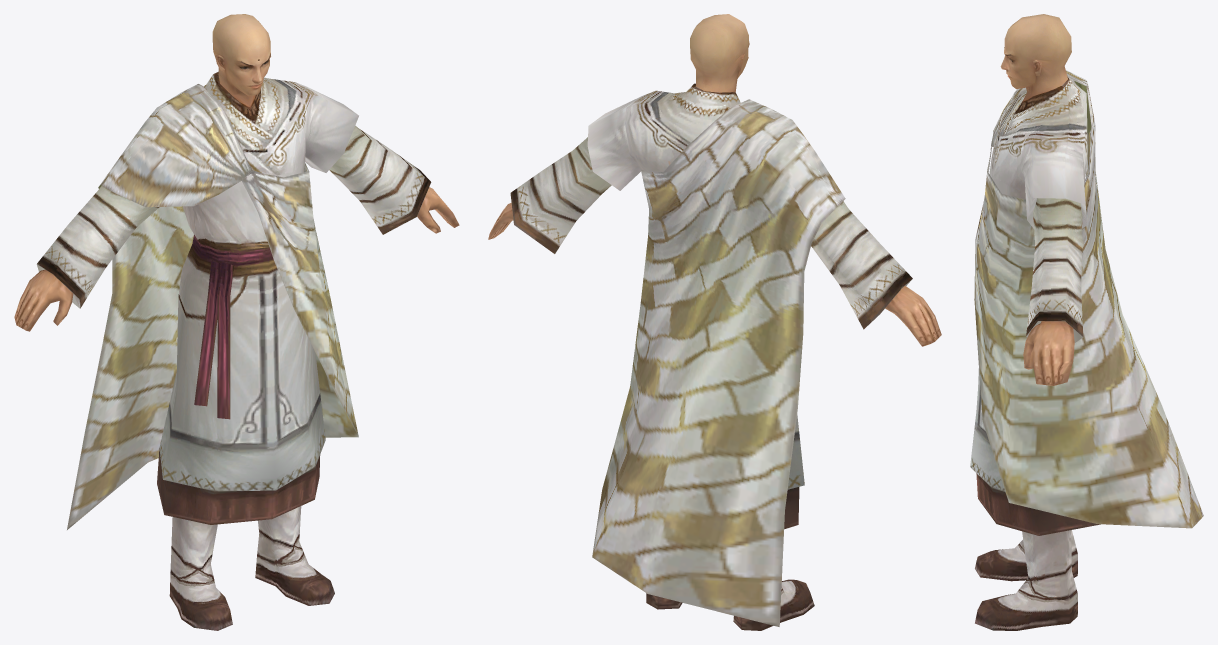
Rendered from monk-v2.glb.
The picture shows the model from 3 angles, left to right: view 1: azimuth 30°, elevation 25°; view 2: azimuth 150°, elevation 25°; view 3: azimuth 270°, elevation 25°; orthographic projection. The views are drawn at different scales.
Parts seen in each view (by area): view 1: ElementClient-1be729c0.obj_0, Object_6; view 2: Object_6, ElementClient-1be729c0.obj_0; view 3: Object_6, ElementClient-1be729c0.obj_0.
Part boxes in pixels (box(x1,y1,x2,y2)): ElementClient-1be729c0.obj_0: box(14, 14, 459, 630); Object_6: box(67, 84, 358, 529); Object_6: box(592, 99, 845, 626); ElementClient-1be729c0.obj_0: box(488, 14, 941, 630); Object_6: box(974, 70, 1203, 528); ElementClient-1be729c0.obj_0: box(970, 14, 1100, 630).
Size of the model in its own units: 1.42 by 1.8 by 0.6582.
Materials: 2 (2 with a texture image).
